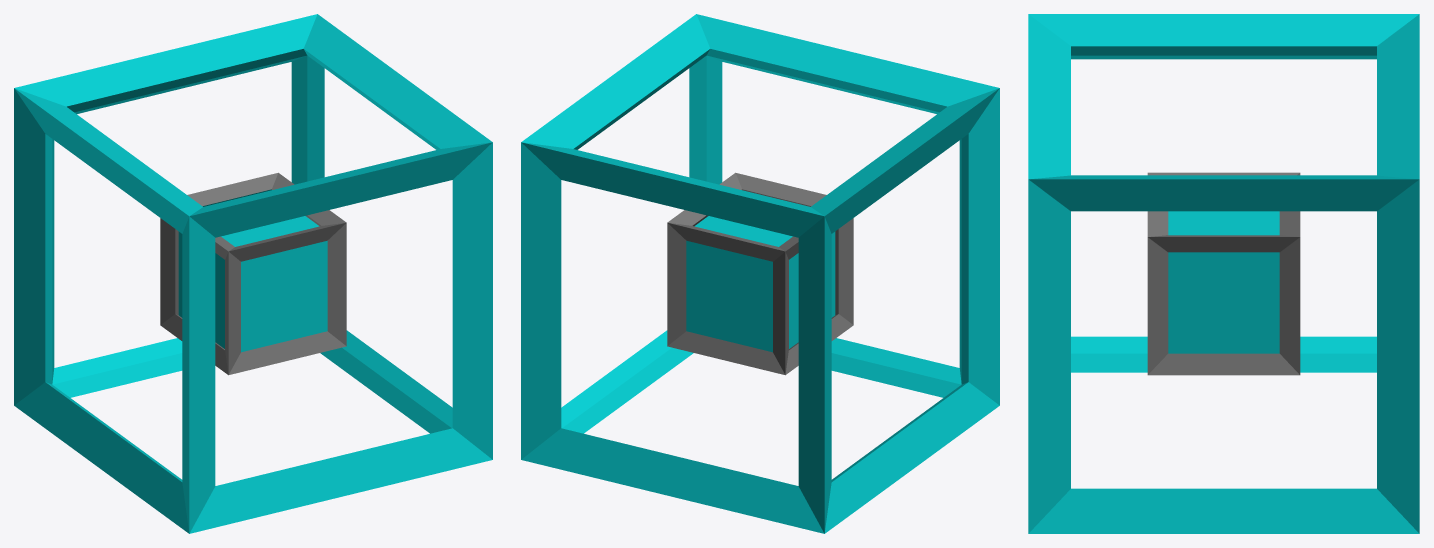
File: Item_Powerup_Futuristic.fbx
The picture shows the model from 3 angles, left to right: view 1: azimuth 30°, elevation 25°; view 2: azimuth 150°, elevation 25°; view 3: azimuth 270°, elevation 25°; orthographic projection. The views are drawn at different scales.
Visible parts, largest first — view 1: Item Powerrup Futuristic; view 2: Item Powerrup Futuristic; view 3: Item Powerrup Futuristic.
Boxes of the visible parts, bbox=[...] form: Item Powerrup Futuristic: bbox=[14, 14, 492, 533]; Item Powerrup Futuristic: bbox=[521, 14, 999, 533]; Item Powerrup Futuristic: bbox=[1028, 14, 1419, 533].
Bounding box in the file's own units: 238 × 238 × 238.
